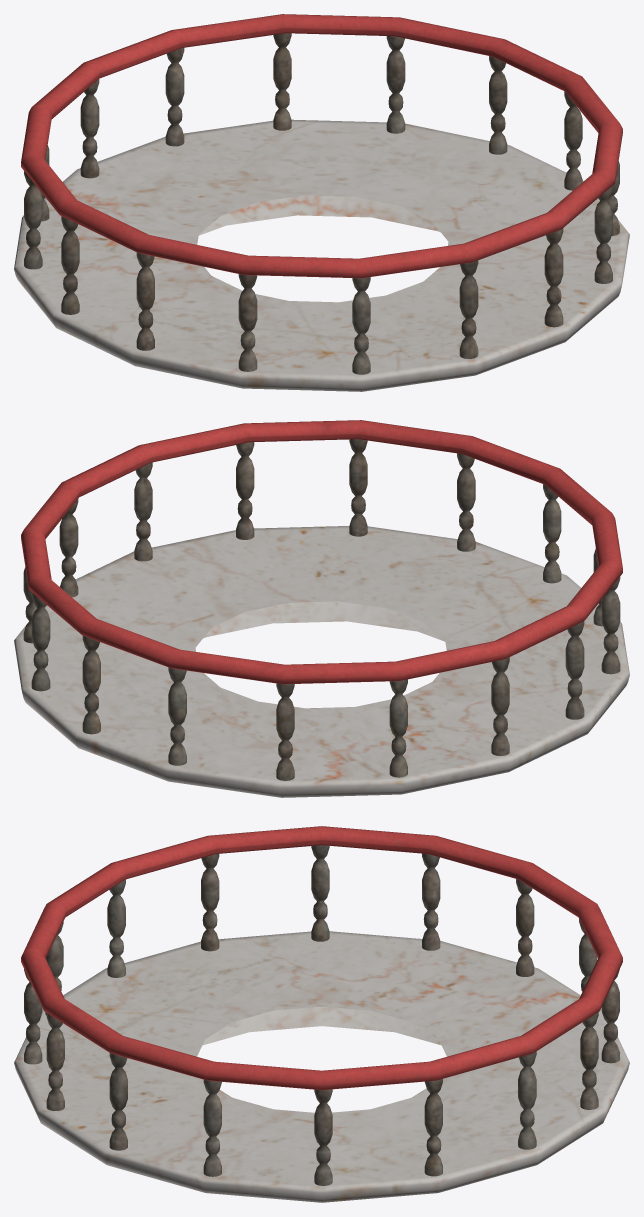
The model's file is Top.002.fbx.
3 renders of one model, top to bottom at view 1: azimuth 30°, elevation 25°; view 2: azimuth 150°, elevation 25°; view 3: azimuth 270°, elevation 25°, orthographic.
Parts seen in each view (by area): view 1: Top.002_Baked; view 2: Top.002_Baked; view 3: Top.002_Baked.
Boxes of the visible parts, bbox=[...] form: Top.002_Baked: bbox=[14, 14, 629, 391]; Top.002_Baked: bbox=[14, 420, 629, 797]; Top.002_Baked: bbox=[14, 826, 629, 1202].
Size of the model in its own units: 636 by 179 by 636.
